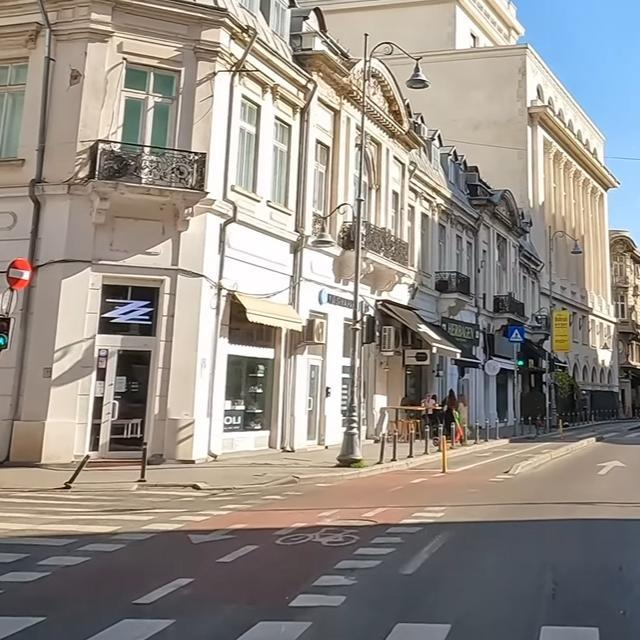info_crosswalk: (507, 324, 525, 342)
